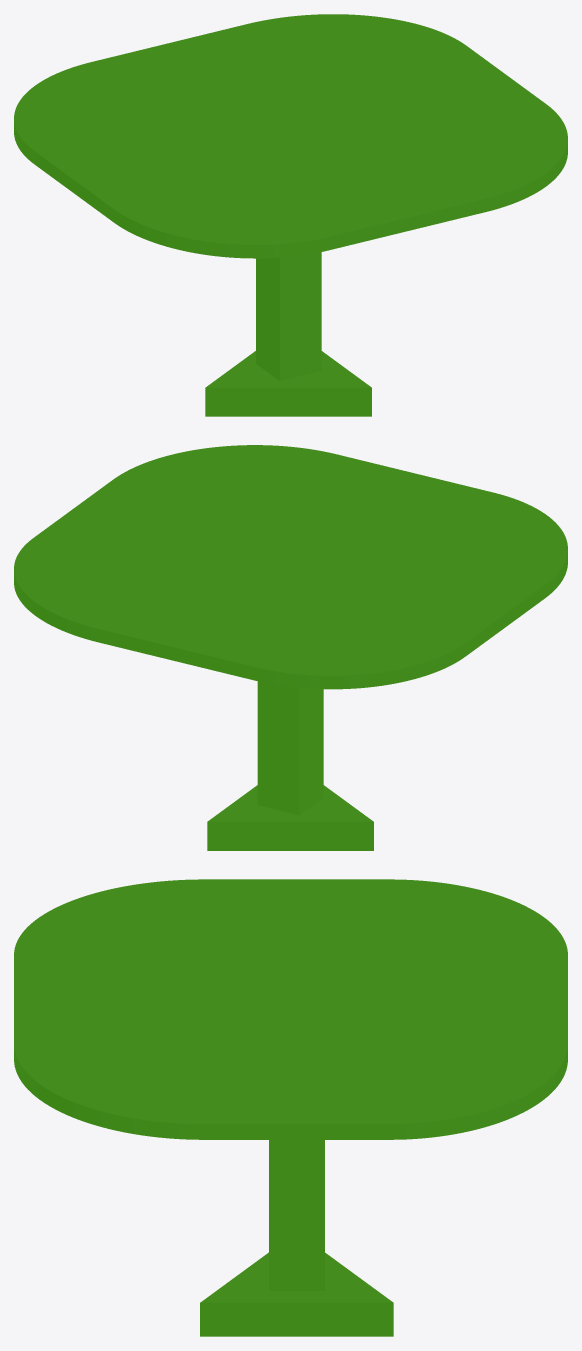
Rendered from TableHolo.glb.
3 renders of one model, top to bottom at view 1: azimuth 30°, elevation 25°; view 2: azimuth 150°, elevation 25°; view 3: azimuth 270°, elevation 25°, orthographic. The views are drawn at different scales.
Parts seen in each view (by area): view 1: TableHolo; view 2: TableHolo; view 3: TableHolo.
Part boxes in pixels (x1,y1,x2,y2): TableHolo: (14,14,567,416); TableHolo: (14,445,567,850); TableHolo: (14,879,567,1336).
Bounding box in the file's own units: 15.54 × 9.24 × 14.86.
